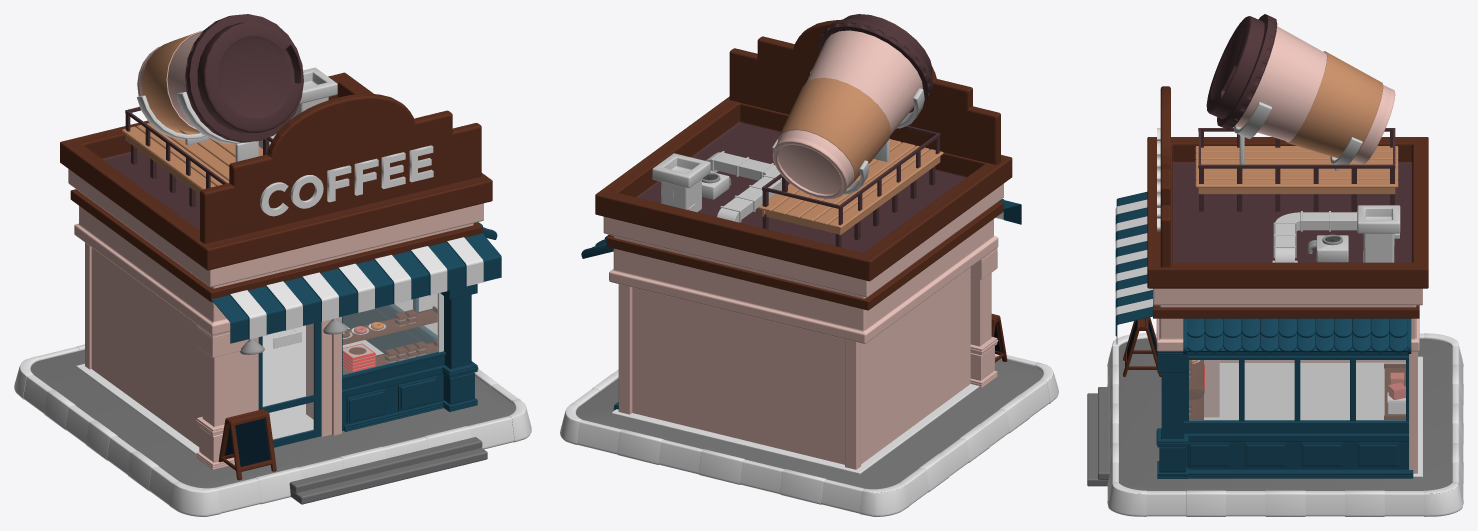
Rendered from coffee_shop.glb.
3 renders of one model, left to right at view 1: azimuth 30°, elevation 25°; view 2: azimuth 150°, elevation 25°; view 3: azimuth 270°, elevation 25°, orthographic. The views are drawn at different scales.
Parts seen in each view (by area): view 1: Cube.088, Cube.212, Cube.086, Cube.001, Plane.002, Cube.003, Cylinder.009, door plate, Cube.140, Cube.139, Cube.017, Cube.063 (+20 smaller); view 2: Cube.088, Cube.087, Cube.086, Cylinder.007, Cube.003, Cube.212, Cube.001, Cube.017, Cube.096, Cube.139, Cube.036, Cube.035 (+7 smaller); view 3: Cube.088, Cube.001, Cube.003, Cube.141, Cylinder.007, Cube.139, Cube.096, Plane.002, Cube.069, Cube.089, Cube.063, Cube.090 (+25 smaller).
Boxes of the visible parts, bbox=[...] form: Cube.088: bbox=[60, 72, 492, 335]; Cube.212: bbox=[200, 93, 481, 243]; Cube.086: bbox=[91, 247, 258, 469]; Cube.001: bbox=[30, 349, 515, 504]; Plane.002: bbox=[211, 233, 501, 343]; Cube.003: bbox=[14, 344, 531, 516]; Cylinder.009: bbox=[197, 22, 302, 133]; door plate: bbox=[258, 321, 320, 447]; Cube.140: bbox=[343, 294, 437, 374]; Cube.139: bbox=[76, 324, 383, 454]; Cube.017: bbox=[70, 189, 482, 302]; Cube.063: bbox=[440, 284, 478, 411]; Cube.088: bbox=[595, 96, 1012, 343]; Cube.087: bbox=[632, 287, 860, 469]; Cube.086: bbox=[861, 247, 998, 464]; Cylinder.007: bbox=[772, 30, 922, 199]; Cube.003: bbox=[560, 354, 1058, 516]; Cube.212: bbox=[729, 20, 1000, 164]; Cube.001: bbox=[576, 357, 1042, 489]; Cube.017: bbox=[606, 201, 1003, 310]; Cube.096: bbox=[758, 139, 943, 228]; Cube.139: bbox=[611, 384, 978, 474]; Cube.036: bbox=[652, 153, 710, 212]; Cube.035: bbox=[705, 152, 781, 222]; Cube.088: bbox=[1147, 137, 1428, 351]; Cube.001: bbox=[1087, 338, 1451, 490]; Cube.003: bbox=[1107, 333, 1463, 516]; Cube.141: bbox=[1189, 360, 1405, 420]; Cylinder.007: bbox=[1235, 26, 1395, 164]; Cube.139: bbox=[1204, 356, 1422, 476]; Cube.096: bbox=[1195, 146, 1398, 187]; Plane.002: bbox=[1115, 192, 1152, 344]; Cube.069: bbox=[1188, 442, 1399, 466]; Cube.089: bbox=[1187, 318, 1407, 337]; Cube.063: bbox=[1156, 351, 1188, 478]; Cube.090: bbox=[1187, 332, 1407, 352].
Size of the model in its own units: 1.89 by 2.11 by 1.83.
